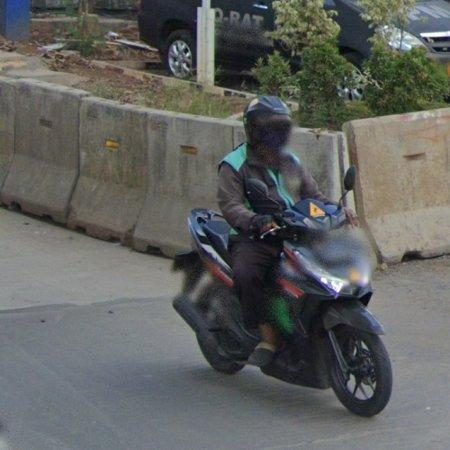motorcycles: (261, 166, 393, 417), (173, 208, 260, 374)
